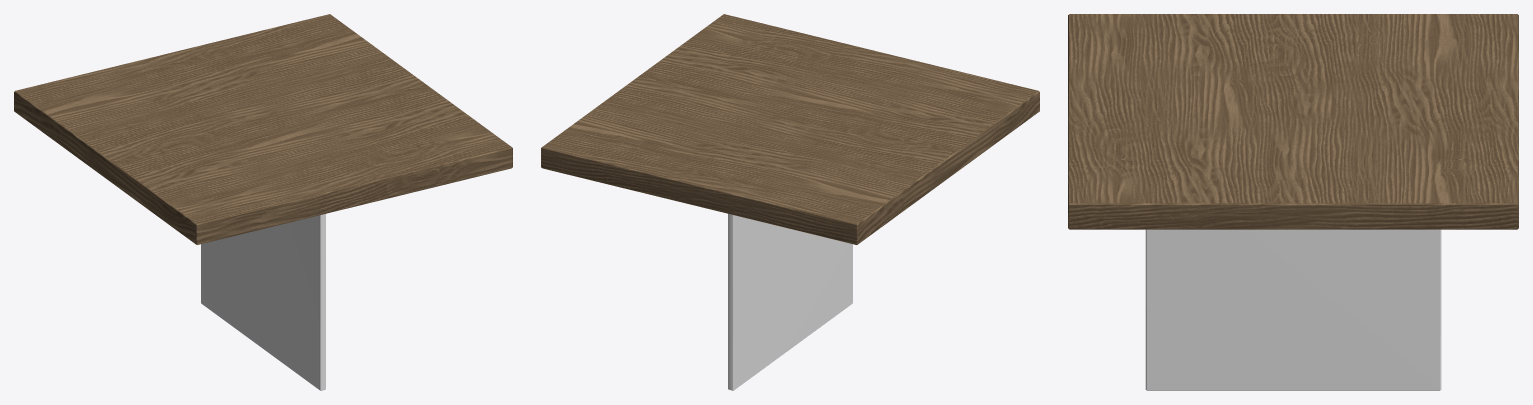
File: kitchen_table_012.fbx
3 views of the same model, side by side, from view 1: azimuth 30°, elevation 25°; view 2: azimuth 150°, elevation 25°; view 3: azimuth 270°, elevation 25° (orthographic). The views are drawn at different scales.
Visible parts, largest first — view 1: kitchen_table_012; view 2: kitchen_table_012; view 3: kitchen_table_012.
Boxes of the visible parts, left/top/right/bottom form: kitchen_table_012: left=14, top=14, right=512, bottom=390; kitchen_table_012: left=541, top=14, right=1039, bottom=390; kitchen_table_012: left=1068, top=14, right=1518, bottom=390.
Size of the model in its own units: 148 by 148 by 102.
